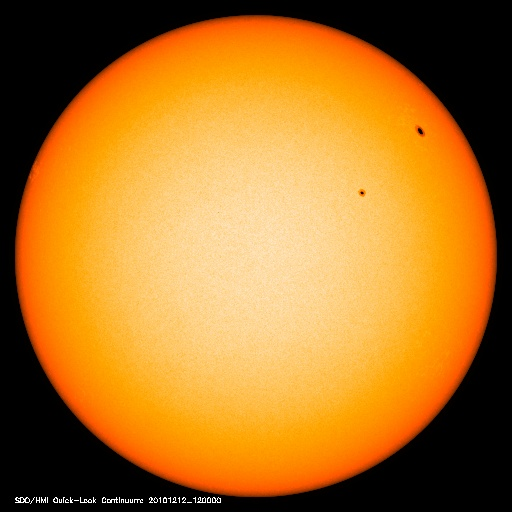sunspot: (346, 181, 379, 205), (407, 116, 434, 145)
